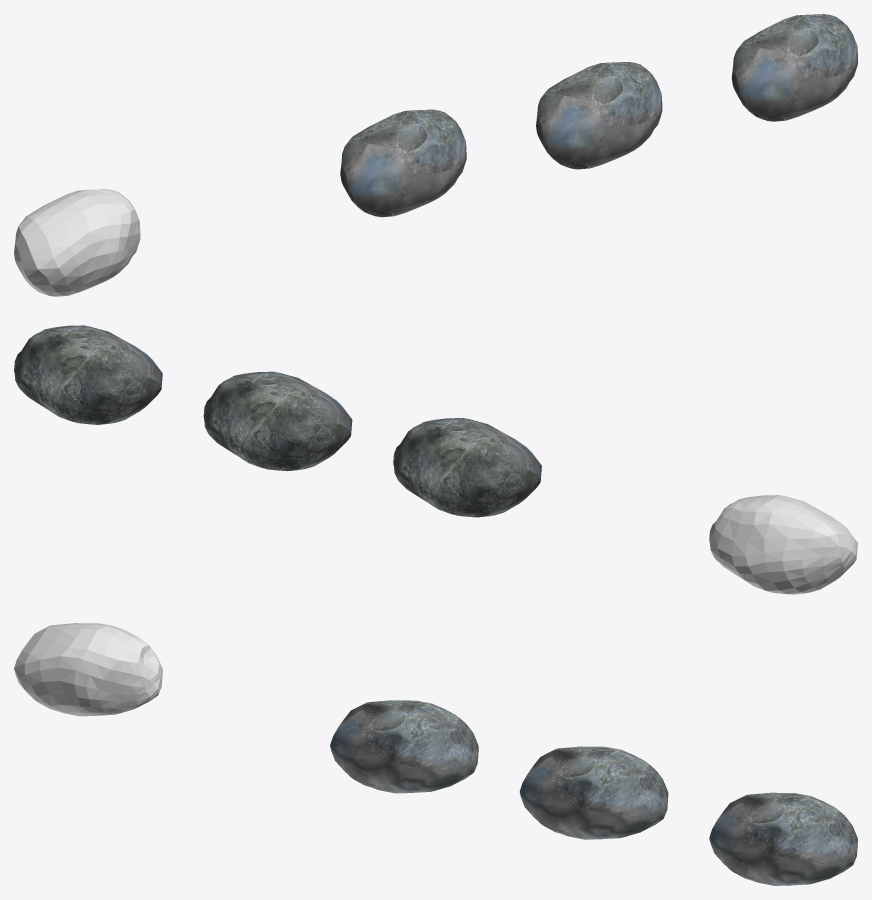
Rendered from asteroid_1.DAE.
The picture shows the model from 3 angles, top to bottom: view 1: azimuth 30°, elevation 25°; view 2: azimuth 150°, elevation 25°; view 3: azimuth 330°, elevation 25°; orthographic projection. The views are drawn at different scales.
Parts seen in each view (by area): view 1: MULT[Root_mesh]_LOD[0], MULT[Root_mesh]_LOD[1], COL[Root], MULT[Root_mesh]_LOD[2]; view 2: MULT[Root_mesh]_LOD[2], MULT[Root_mesh]_LOD[1], COL[Root], MULT[Root_mesh]_LOD[0]; view 3: MULT[Root_mesh]_LOD[0], MULT[Root_mesh]_LOD[1], MULT[Root_mesh]_LOD[2], COL[Root].
Part boxes in pixels (box(x1,y1,x2,y2)): MULT[Root_mesh]_LOD[0]: box(340, 109, 466, 217); MULT[Root_mesh]_LOD[1]: box(536, 62, 662, 169); COL[Root]: box(14, 189, 140, 296); MULT[Root_mesh]_LOD[2]: box(731, 14, 857, 121); MULT[Root_mesh]_LOD[2]: box(14, 325, 162, 424); MULT[Root_mesh]_LOD[1]: box(203, 371, 352, 471); COL[Root]: box(709, 495, 857, 594); MULT[Root_mesh]_LOD[0]: box(393, 418, 541, 517); MULT[Root_mesh]_LOD[0]: box(330, 700, 478, 793); MULT[Root_mesh]_LOD[1]: box(519, 746, 668, 839); MULT[Root_mesh]_LOD[2]: box(709, 792, 857, 885); COL[Root]: box(14, 623, 162, 716).
Size of the model in its own units: 141 by 14.46 by 14.78.
